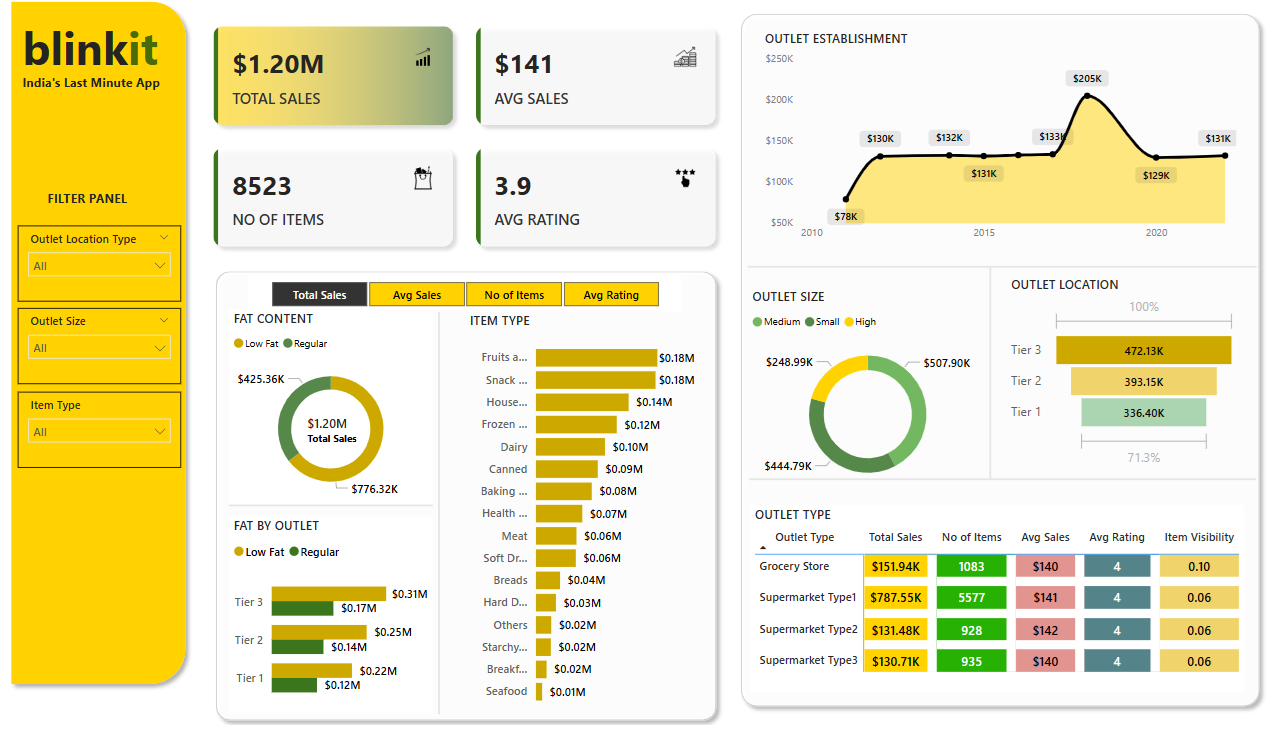

This screenshot's page, from the dashboard's own definition file:
{"tool":"powerbi","page":{"name":"Page 1","canvas":[1400,800],"ordinal":0},"visuals":[{"type":"shape","box":[10,0,205,750],"z":0},{"type":"textbox","box":[25,20.5,391.4,81.9],"z":1000},{"type":"textbox","box":[25,81.9,175.2,41],"z":2000},{"type":"cardVisual","fields":{"Data":["BlinkIT Grocery Data.Total Sales","BlinkIT Grocery Data.Avg Sales","BlinkIT Grocery Data.No of Items","BlinkIT Grocery Data.Avg Rating"]},"box":[219.2,19.3,573.7,270.7],"z":3000},{"type":"shape","box":[228.8,290.1,554.3,499.6],"z":4000},{"type":"donutChart","title":"FAT CONTENT","fields":{"Y":["BlinkIT Grocery Data.Total Sales"],"Category":["BlinkIT Grocery Data.Item Fat Content"]},"box":[252,339.1,218.5,211.8],"z":5000},{"type":"slicer","fields":{"Values":["Metrics.Metrics"]},"box":[272.1,303,465.1,38.9],"z":6000},{"type":"cardVisual","fields":{"Data":["BlinkIT Grocery Data.Total Sales"]},"box":[319,435.7,97.9,55],"z":7000},{"type":"clusteredBarChart","title":"FAT BY OUTLET","fields":{"Y":["BlinkIT Grocery Data.Total Sales"],"Category":["BlinkIT Grocery Data.Outlet Location Type"],"Series":["BlinkIT Grocery Data.Item Fat Content"]},"box":[252,561.7,218.5,211.8],"z":8000},{"type":"shape","box":[252,512.1,218.5,75.1],"z":9000},{"type":"shape","box":[470.5,341.8,13.4,431.6],"z":10000},{"type":"barChart","title":"ITEM TYPE","fields":{"Y":["BlinkIT Grocery Data.Total Sales"],"Category":["BlinkIT Grocery Data.Item Type"]},"box":[506,341.6,251.4,431.9],"z":11000},{"type":"shape","box":[792.8,12.9,573.7,760.6],"z":12000},{"type":"lineChart","title":"OUTLET ESTABLISHMENT","fields":{"Category":["BlinkIT Grocery Data.Outlet Establishment Year"],"Y":["BlinkIT Grocery Data.Total Sales"]},"box":[821.8,38.7,515.7,235.3],"z":13000},{"type":"shape","box":[808.3,284.2,545.6,18.8],"z":14000},{"type":"donutChart","title":"OUTLET SIZE","fields":{"Y":["BlinkIT Grocery Data.Total Sales"],"Category":["BlinkIT Grocery Data.Outlet Size"]},"box":[808.9,315.8,257.8,225.6],"z":15000},{"type":"shape","box":[1050.9,293.6,34.9,227.9],"z":16000},{"type":"funnel","title":"OUTLET LOCATION","fields":{"Y":["Sum(BlinkIT Grocery Data.Sales)"],"Category":["BlinkIT Grocery Data.Outlet Location Type"]},"box":[1086.1,303,251.4,209.5],"z":17000},{"type":"shape","box":[809.4,512.5,543.8,18.8],"z":18000},{"type":"pivotTable","title":"OUTLET TYPE","fields":{"Rows":["BlinkIT Grocery Data.Outlet Type"],"Values":["BlinkIT Grocery Data.Total Sales","BlinkIT Grocery Data.No of Items","BlinkIT Grocery Data.Avg Sales","BlinkIT Grocery Data.Avg Rating","Avg(BlinkIT Grocery Data.Item Visibility)"]},"box":[810.4,549.9,529.9,200.4],"z":19000},{"type":"slicer","fields":{"Values":["BlinkIT Grocery Data.Outlet Location Type"]},"box":[25,250,175,81.2],"z":20000},{"type":"slicer","fields":{"Values":["BlinkIT Grocery Data.Outlet Size"]},"box":[25,337.5,175,81.2],"z":21000},{"type":"slicer","fields":{"Values":["BlinkIT Grocery Data.Item Type"]},"box":[25,428.1,175,81.2],"z":22000},{"type":"textbox","box":[52.3,206.4,120.6,42.9],"z":23000}]}

Visuals, with their boxes in screenshot pixels (x1, y1, x2, y2), scaled from the page's 1400x800 canvas onto the 1274x735 screenshot:
shape: [9,0,196,689]
textbox: [23,19,379,94]
textbox: [23,75,182,113]
cardVisual - BlinkIT Grocery Data.Total Sales x BlinkIT Grocery Data.Avg Sales: [199,18,722,266]
shape: [208,267,713,726]
"FAT CONTENT" donutChart: [229,312,428,506]
slicer - Metrics.Metrics: [248,278,671,314]
cardVisual - BlinkIT Grocery Data.Total Sales: [290,400,379,451]
"FAT BY OUTLET" clusteredBarChart: [229,516,428,711]
shape: [229,470,428,539]
shape: [428,314,440,711]
"ITEM TYPE" barChart: [460,314,689,711]
shape: [721,12,1244,711]
"OUTLET ESTABLISHMENT" lineChart: [748,36,1217,252]
shape: [736,261,1232,278]
"OUTLET SIZE" donutChart: [736,290,971,497]
shape: [956,270,988,479]
"OUTLET LOCATION" funnel: [988,278,1217,471]
shape: [737,471,1231,488]
"OUTLET TYPE" pivotTable: [737,505,1220,689]
slicer - BlinkIT Grocery Data.Outlet Location Type: [23,230,182,304]
slicer - BlinkIT Grocery Data.Outlet Size: [23,310,182,385]
slicer - BlinkIT Grocery Data.Item Type: [23,393,182,468]
textbox: [48,190,157,229]
